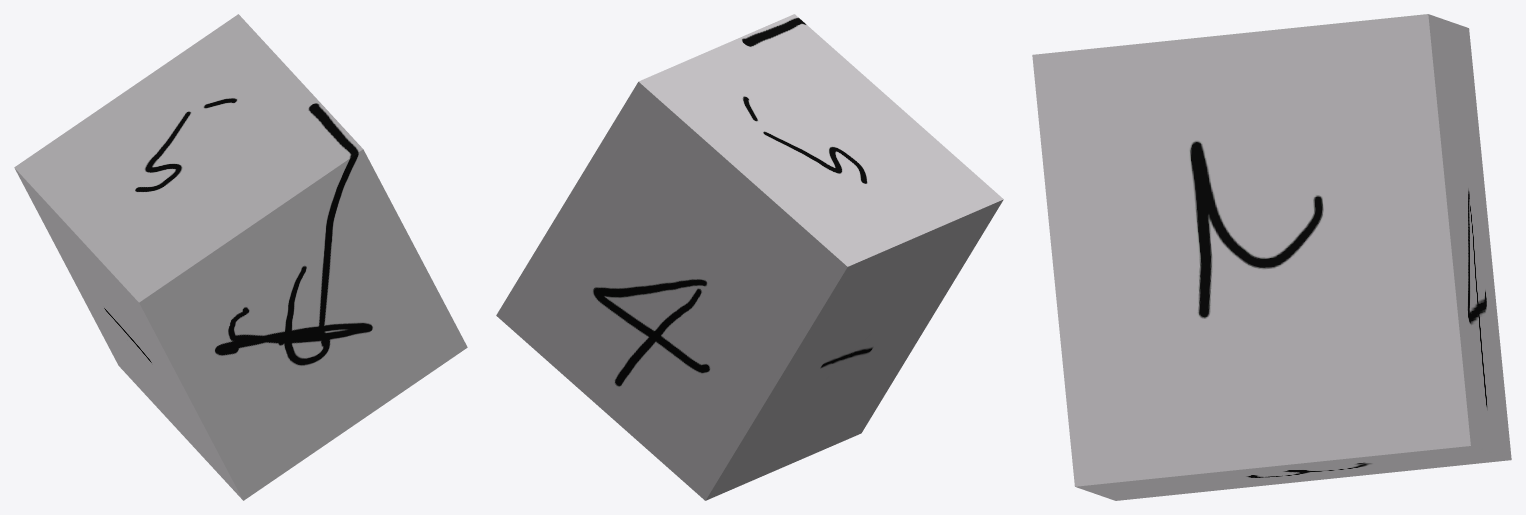
The picture shows the model from 3 angles, left to right: view 1: azimuth 30°, elevation 25°; view 2: azimuth 150°, elevation 25°; view 3: azimuth 270°, elevation 25°; orthographic projection. The views are drawn at different scales.
Visible parts, largest first — view 1: root; view 2: root; view 3: root.
Boxes of the visible parts, x1,y1,x2,y2 form: root: (14, 14, 467, 500); root: (496, 14, 1003, 500); root: (1032, 14, 1511, 500).
Bounding box in the file's own units: 0.3408 × 0.3673 × 0.2851.
1 material, 1 textured.
